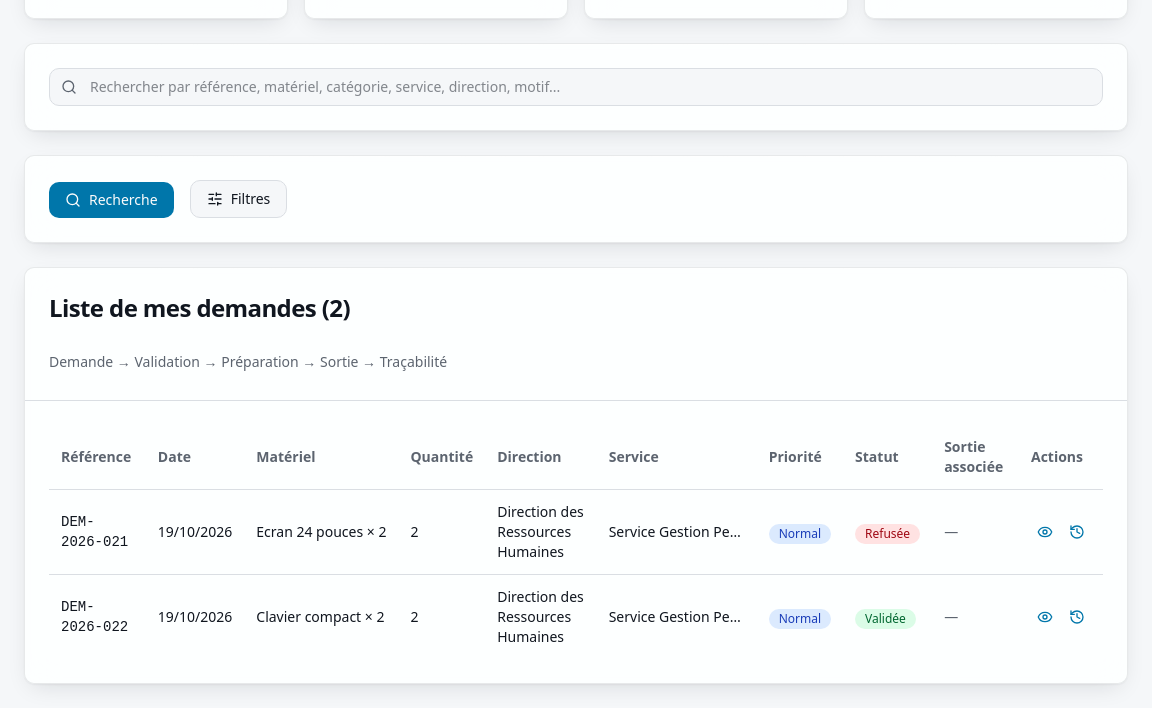
Scenario: MyRequests — le demandeur voit la décision du Dépositaire › affiche le MOTIF de rejet dans le détail de la demande
(page scrolled)
Expected: the text "DEM-2026-021" is shown, [49, 490, 146, 574]
Click the button titled "Voir le suivi" in the row of "DEM-2026-021". click: coordinates (1045, 532)
box: [1031, 518, 1059, 546]
(page scrolled)
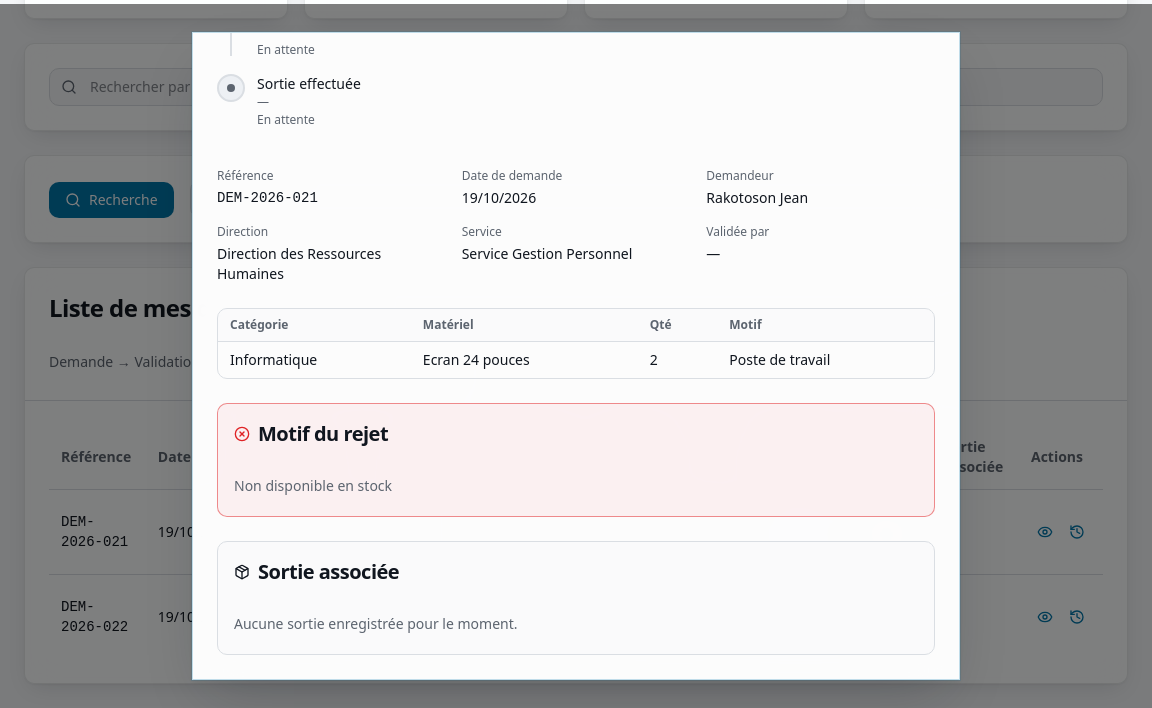
Expected: the text "DEM-2026-021" is shown, [49, 490, 146, 574]
Expected: the heading "Motif du rejet" is shown, [234, 420, 388, 447]
Expected: the text "Non disponible en stock" is shown, [234, 476, 392, 495]
